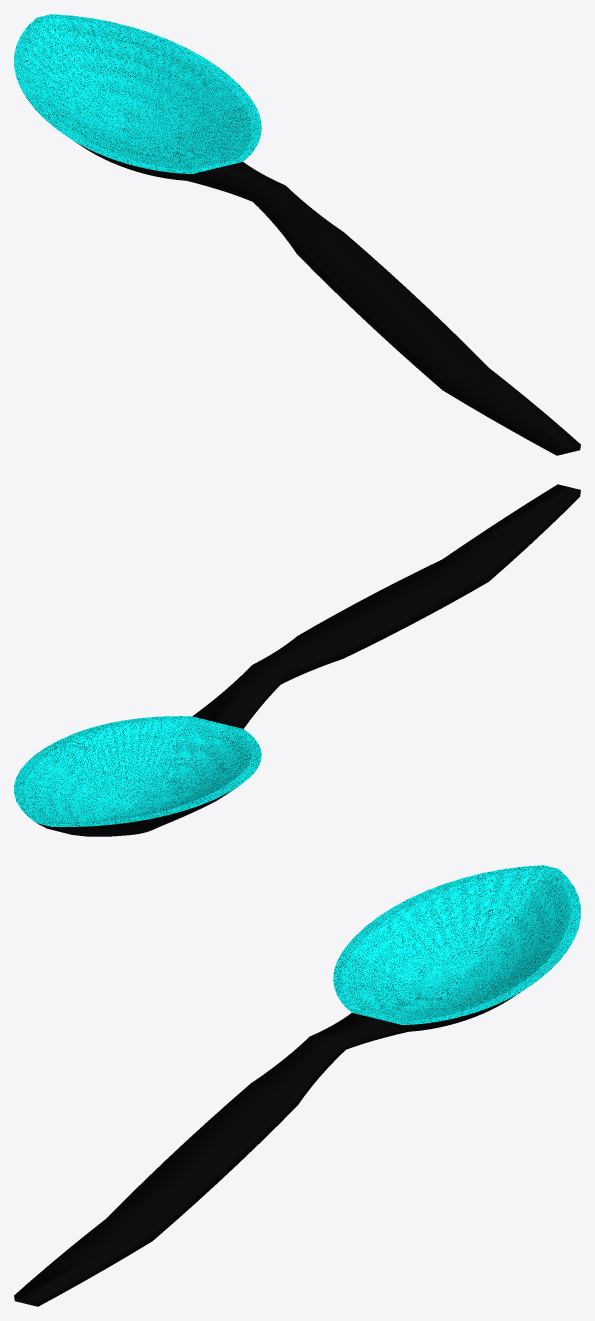
Rendered from spoon_08_origin_gt_3.dae.
3 views of the same model, one above another, from view 1: azimuth 30°, elevation 25°; view 2: azimuth 150°, elevation 25°; view 3: azimuth 330°, elevation 25° (orthographic).
Visible parts, largest first — view 1: group_0 (×3); view 2: group_0 (×3); view 3: group_0 (×3).
Boxes of the visible parts, x1=… form: group_0 (×3): x1=14, y1=14, x2=580, y2=455; group_0 (×3): x1=14, y1=484, x2=580, y2=836; group_0 (×3): x1=14, y1=865, x2=580, y2=1306.
Size of the model in its own units: 1.76 by 8.73 by 0.6219.
